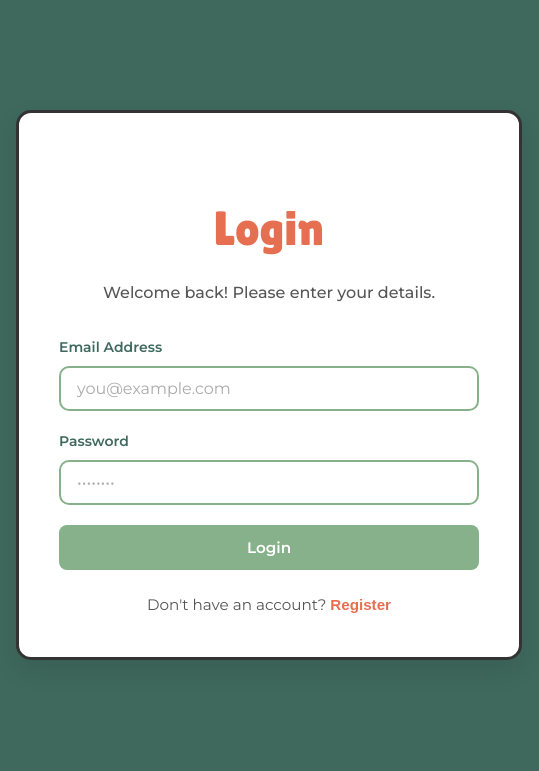
it: shows success message after successful registration
Click the button "Register".
click(361, 604)  # box left=330, top=596, right=391, bottom=613
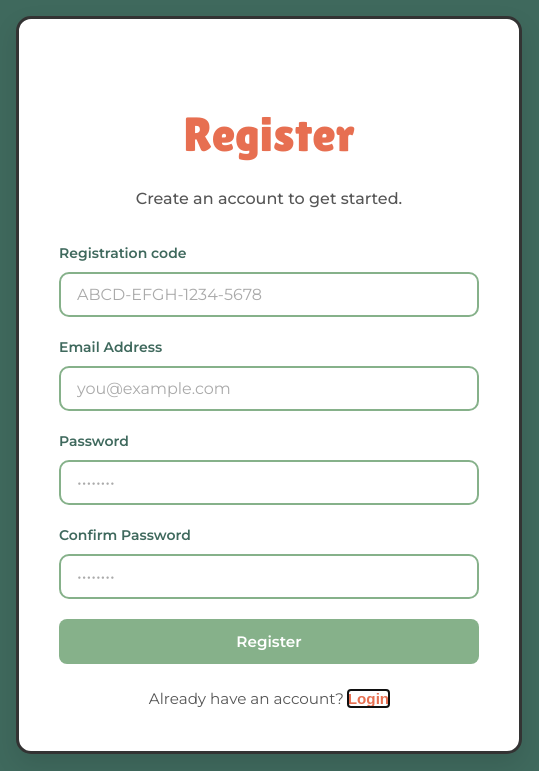
Type "ABCD" into the field labelled "Registration code".
click(269, 294); type("ABCD")  # box left=59, top=272, right=479, bottom=317
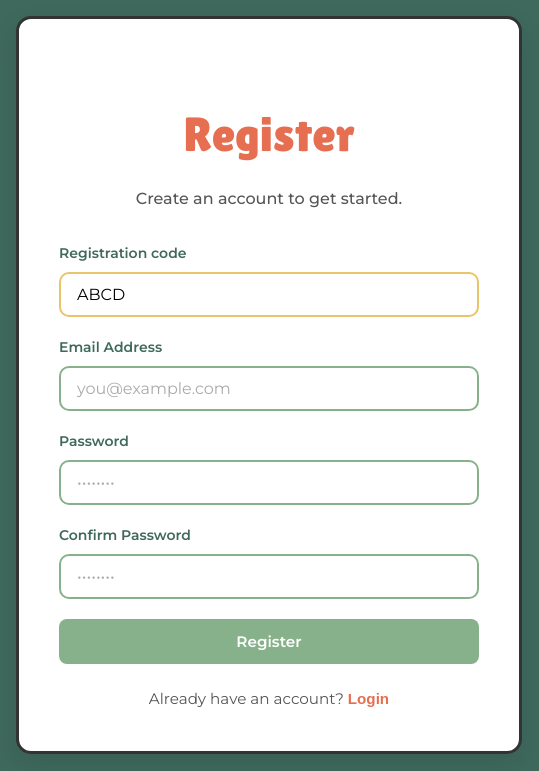
Type "test@email.com" into the field labelled "Email Address".
click(269, 388); type("test@email.com")  # box left=59, top=366, right=479, bottom=411
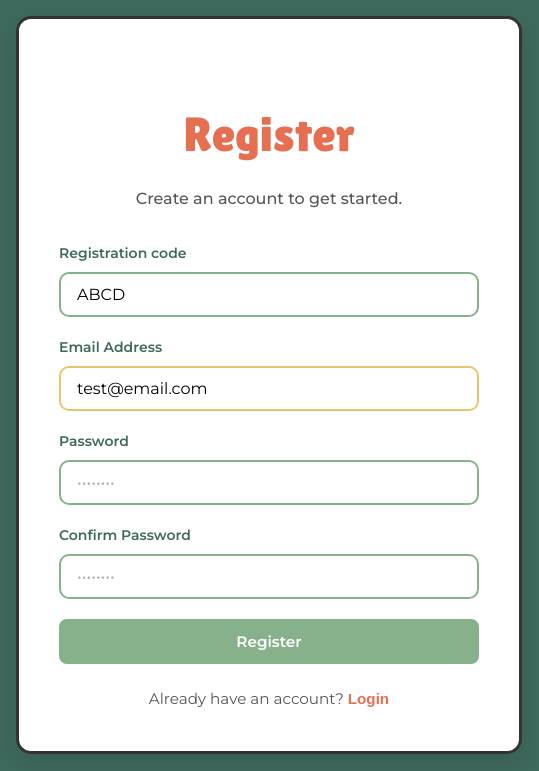
Type "password123" into the password field labelled "Password".
click(269, 482); type("password123")  # box left=59, top=460, right=479, bottom=505
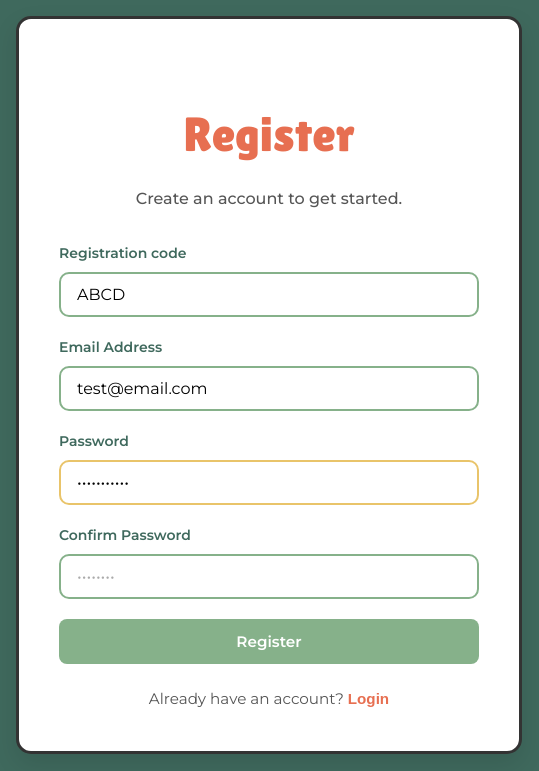
Type "password123" into the password field labelled "Confirm Password".
click(269, 576); type("password123")  # box left=59, top=554, right=479, bottom=599
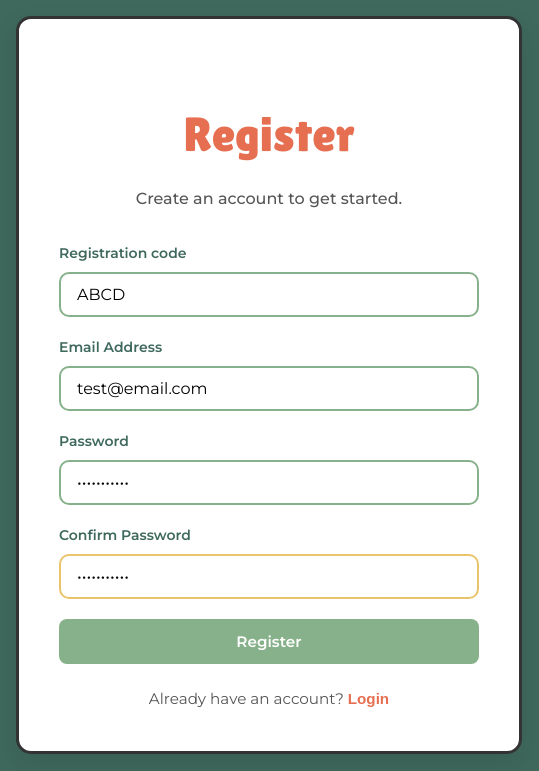
Click the button "Register".
click(269, 642)  # box left=59, top=619, right=479, bottom=664
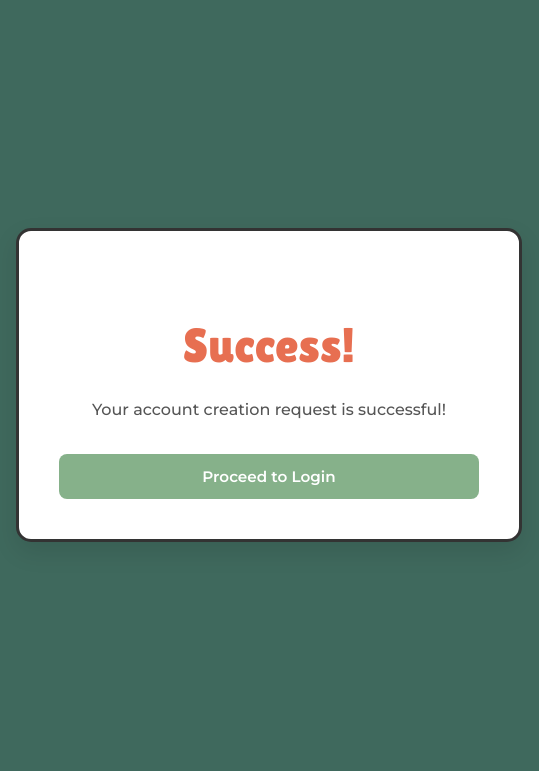
Now the heading "Success!" is shown, box left=183, top=318, right=355, bottom=373
Now the text "Your account creation request is successful!" is shown, box left=92, top=400, right=446, bottom=419
